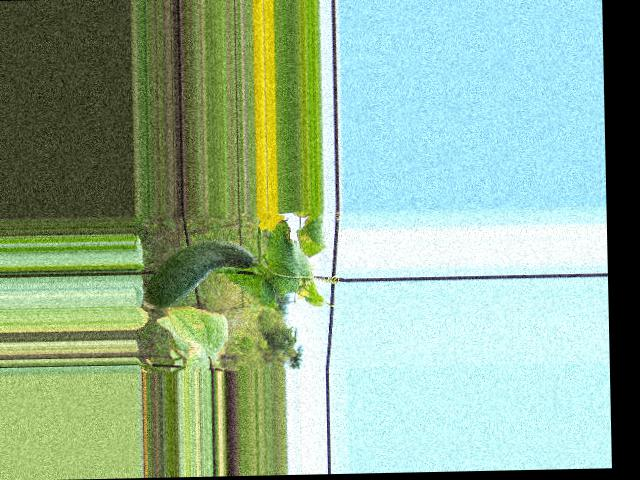cucumber: (145, 240, 256, 309)
